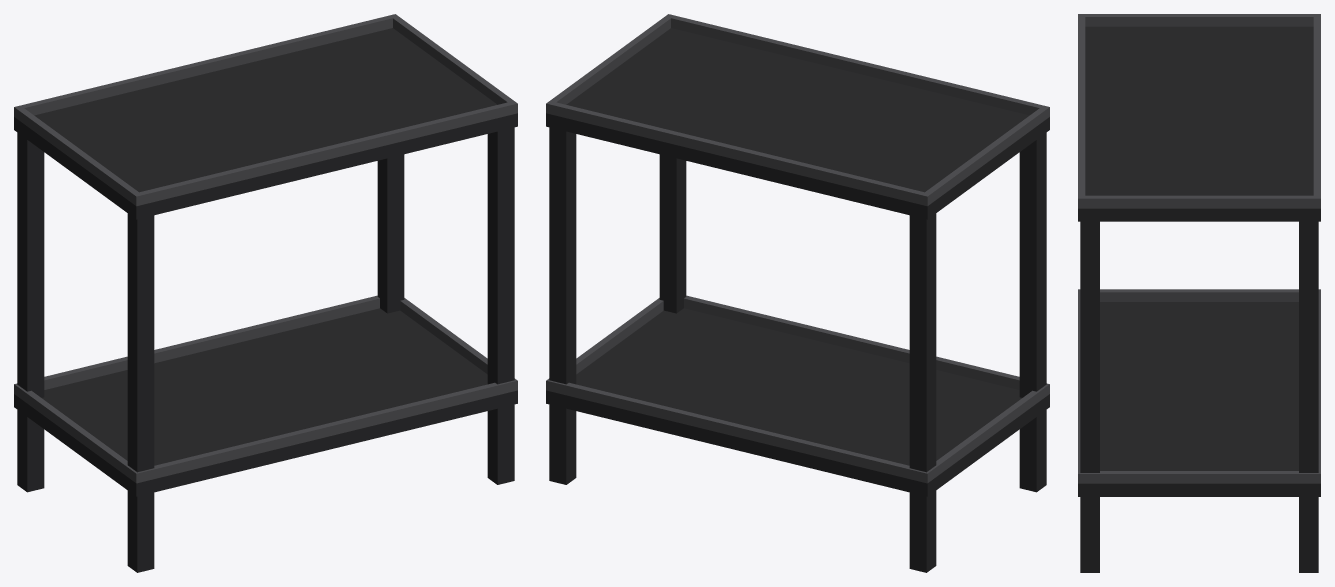
The model's file is Mesa_negra.obj.
3 views of the same model, side by side, from view 1: azimuth 30°, elevation 25°; view 2: azimuth 150°, elevation 25°; view 3: azimuth 270°, elevation 25° (orthographic).
Visible parts, largest first — view 1: Piso_alto, Piso_bajo, Pata_-1_-1, Pata_1_-1, Pata_-1_1, Piso_alto_borde_fondo, Piso_bajo_borde_fondo, Piso_alto_borde_frente, Piso_bajo_borde_frente, Pata_1_1, Piso_alto_borde_izq, Piso_alto_borde_der (+2 smaller); view 2: Piso_alto, Piso_bajo, Pata_-1_1, Pata_1_1, Pata_-1_-1, Piso_alto_borde_frente, Piso_bajo_borde_frente, Piso_alto_borde_fondo, Piso_bajo_borde_fondo, Pata_1_-1, Piso_alto_borde_izq, Piso_alto_borde_der (+2 smaller); view 3: Piso_alto, Piso_bajo, Pata_1_-1, Pata_1_1, Piso_alto_borde_der, Piso_alto_borde_izq, Piso_bajo_borde_der, Piso_bajo_borde_izq, Piso_alto_borde_frente, Piso_alto_borde_fondo, Piso_bajo_borde_frente, Piso_bajo_borde_fondo.
Part boxes in pixels (x1,y1,x2,y2): Piso_alto: [14, 28, 517, 219]; Piso_bajo: [14, 308, 517, 496]; Pata_-1_-1: [127, 213, 154, 572]; Pata_1_-1: [487, 127, 514, 484]; Pata_-1_1: [17, 132, 44, 492]; Piso_alto_borde_fondo: [132, 101, 517, 206]; Piso_bajo_borde_fondo: [132, 378, 517, 483]; Piso_alto_borde_frente: [14, 14, 398, 118]; Piso_bajo_borde_frente: [14, 295, 379, 396]; Pata_1_1: [377, 154, 404, 313]; Piso_alto_borde_izq: [17, 108, 138, 203]; Piso_alto_borde_der: [393, 17, 513, 104]; Piso_alto: [546, 28, 1049, 219]; Piso_bajo: [546, 308, 1049, 496]; Pata_-1_1: [909, 213, 936, 572]; Pata_1_1: [549, 127, 576, 484]; Pata_-1_-1: [1019, 132, 1046, 492]; Piso_alto_borde_frente: [546, 101, 931, 206]; Piso_bajo_borde_frente: [546, 378, 931, 483]; Piso_alto_borde_fondo: [665, 14, 1049, 118]; Piso_bajo_borde_fondo: [684, 295, 1049, 396]; Pata_1_-1: [659, 154, 686, 313]; Piso_alto_borde_izq: [925, 108, 1046, 203]; Piso_alto_borde_der: [550, 17, 670, 104]; Piso_alto: [1078, 26, 1320, 221]; Piso_bajo: [1078, 302, 1320, 496]; Pata_1_-1: [1080, 221, 1099, 572]; Pata_1_1: [1299, 221, 1318, 572]; Piso_alto_borde_der: [1085, 195, 1313, 208]; Piso_alto_borde_izq: [1085, 14, 1313, 26]; Piso_bajo_borde_der: [1085, 471, 1313, 483]; Piso_bajo_borde_izq: [1100, 289, 1298, 301]; Piso_alto_borde_frente: [1313, 14, 1320, 208]; Piso_alto_borde_fondo: [1078, 14, 1085, 208]; Piso_bajo_borde_frente: [1313, 289, 1320, 483]; Piso_bajo_borde_fondo: [1078, 289, 1085, 483].
Bounding box in the file's own units: 0.9 × 0.852 × 0.5.
Materials: 2 (2 with a texture image).
